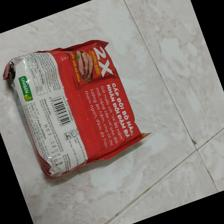3mien: (1, 39, 154, 180)
